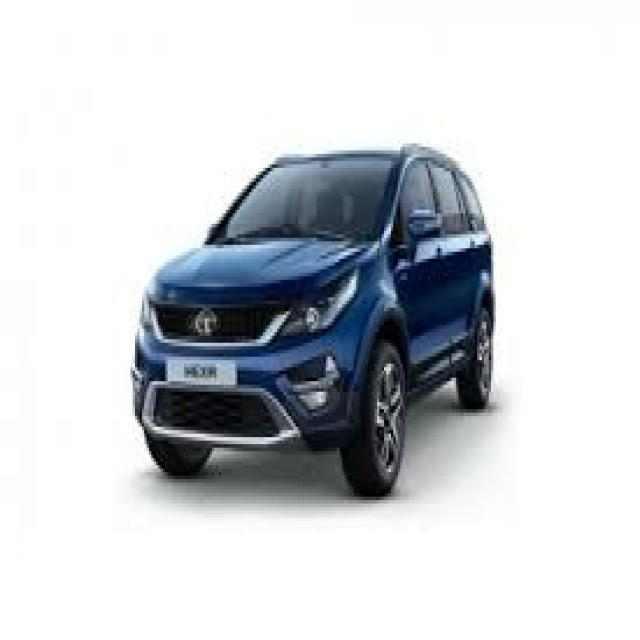SUV: (128, 153, 496, 497)
